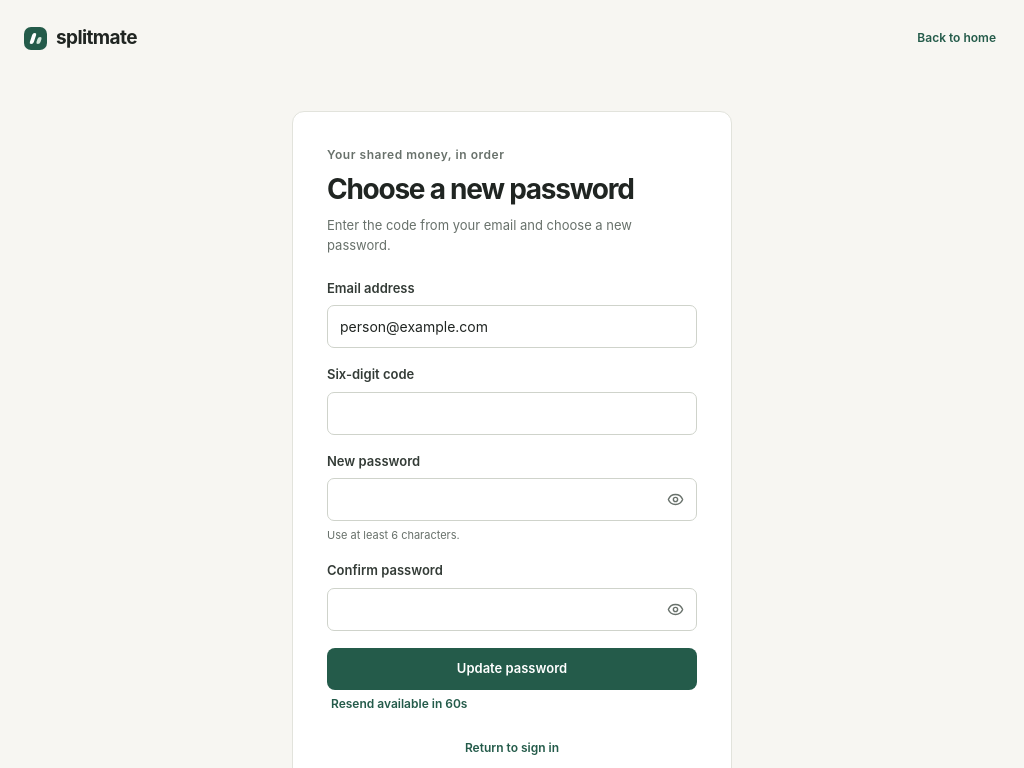
OTP authentication screens › submits a reset code and new password to the password-reset endpoint
The image size is (1024, 768).
In the field labelled "Six-digit code": (512, 414) x1=327 y1=392 x2=697 y2=435, type "654321"
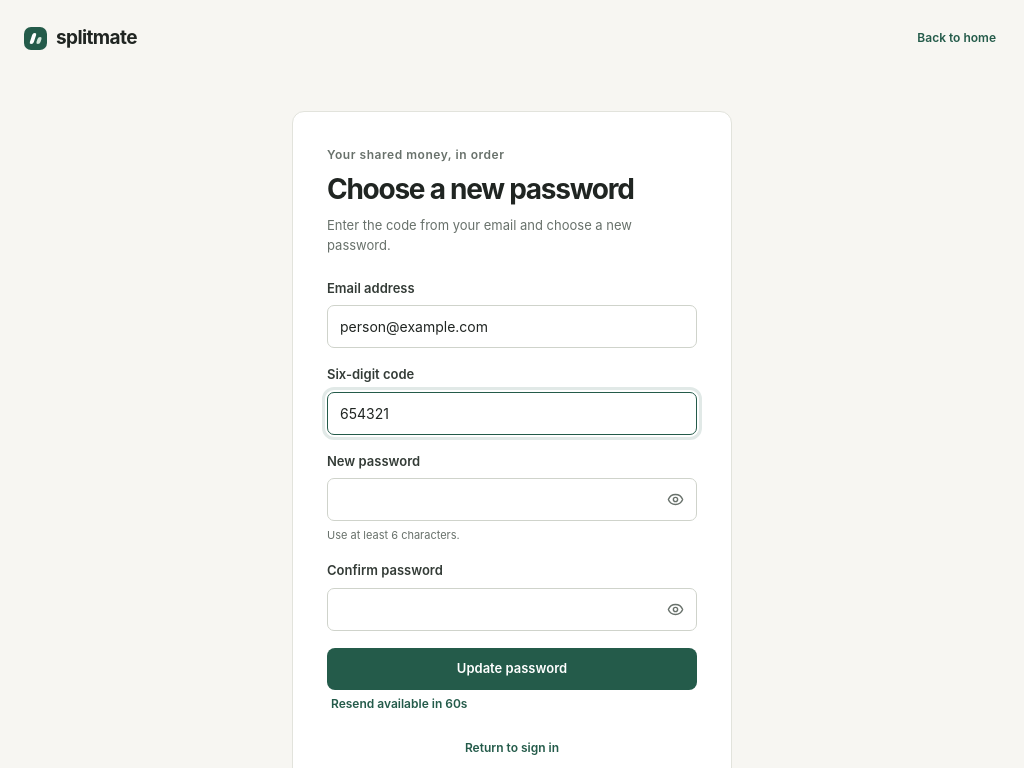
In the password field labelled "New password": (512, 500) x1=327 y1=478 x2=697 y2=522, type "newpass123"
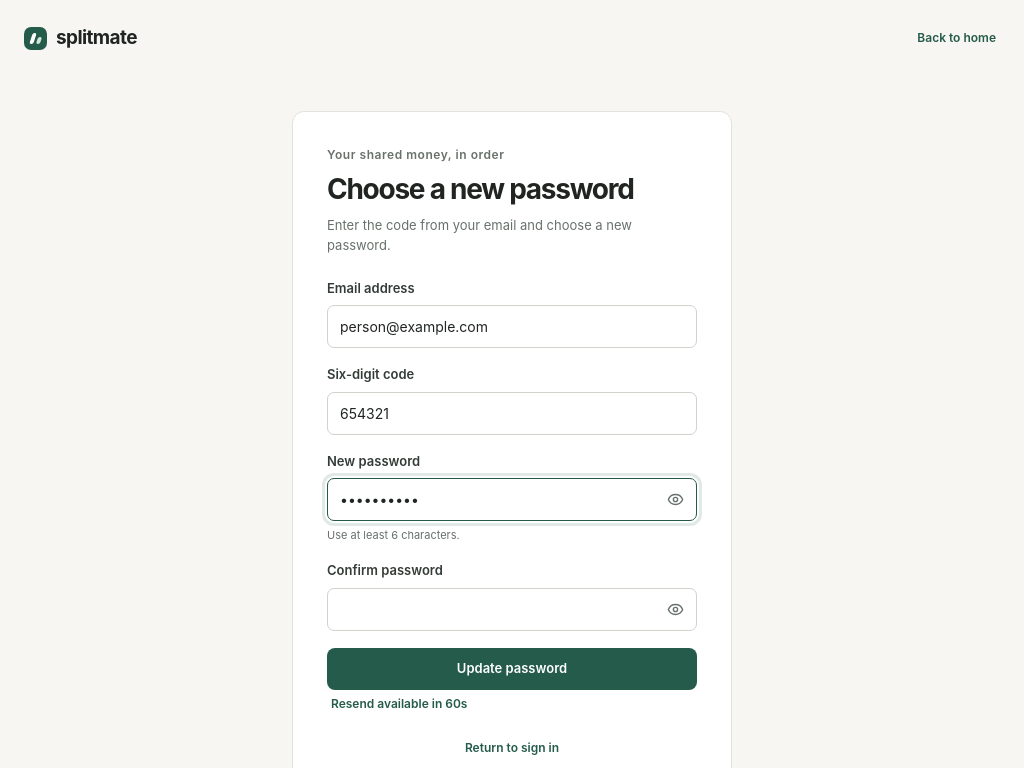
In the password field labelled "Confirm password": (512, 609) x1=327 y1=588 x2=697 y2=631, type "newpass123"
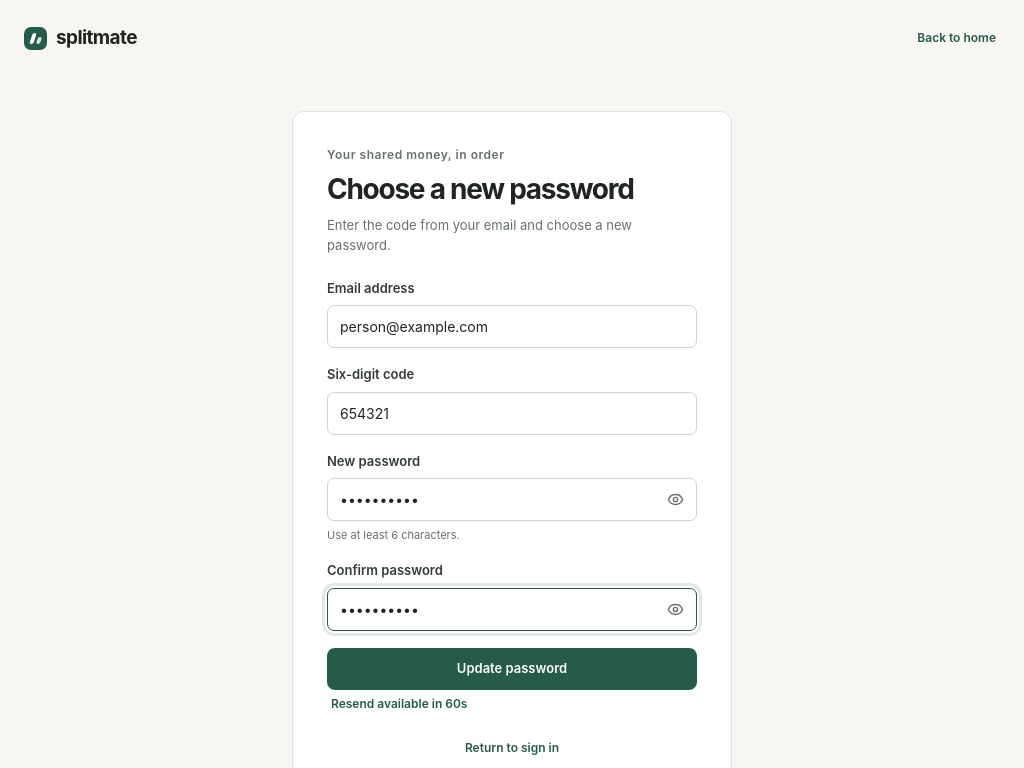
Click the button "Update password": (512, 669) x1=327 y1=648 x2=697 y2=690
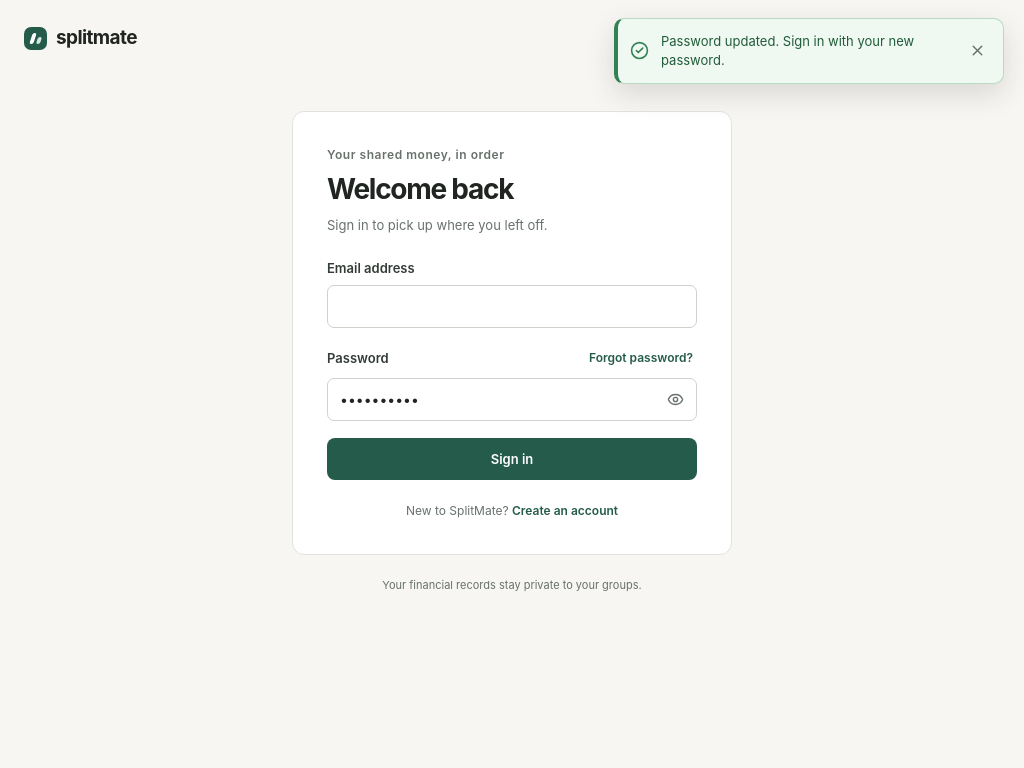
Result: the message reads "Password updated. Sign in with your new password." at x1=661 y1=33 x2=914 y2=68
